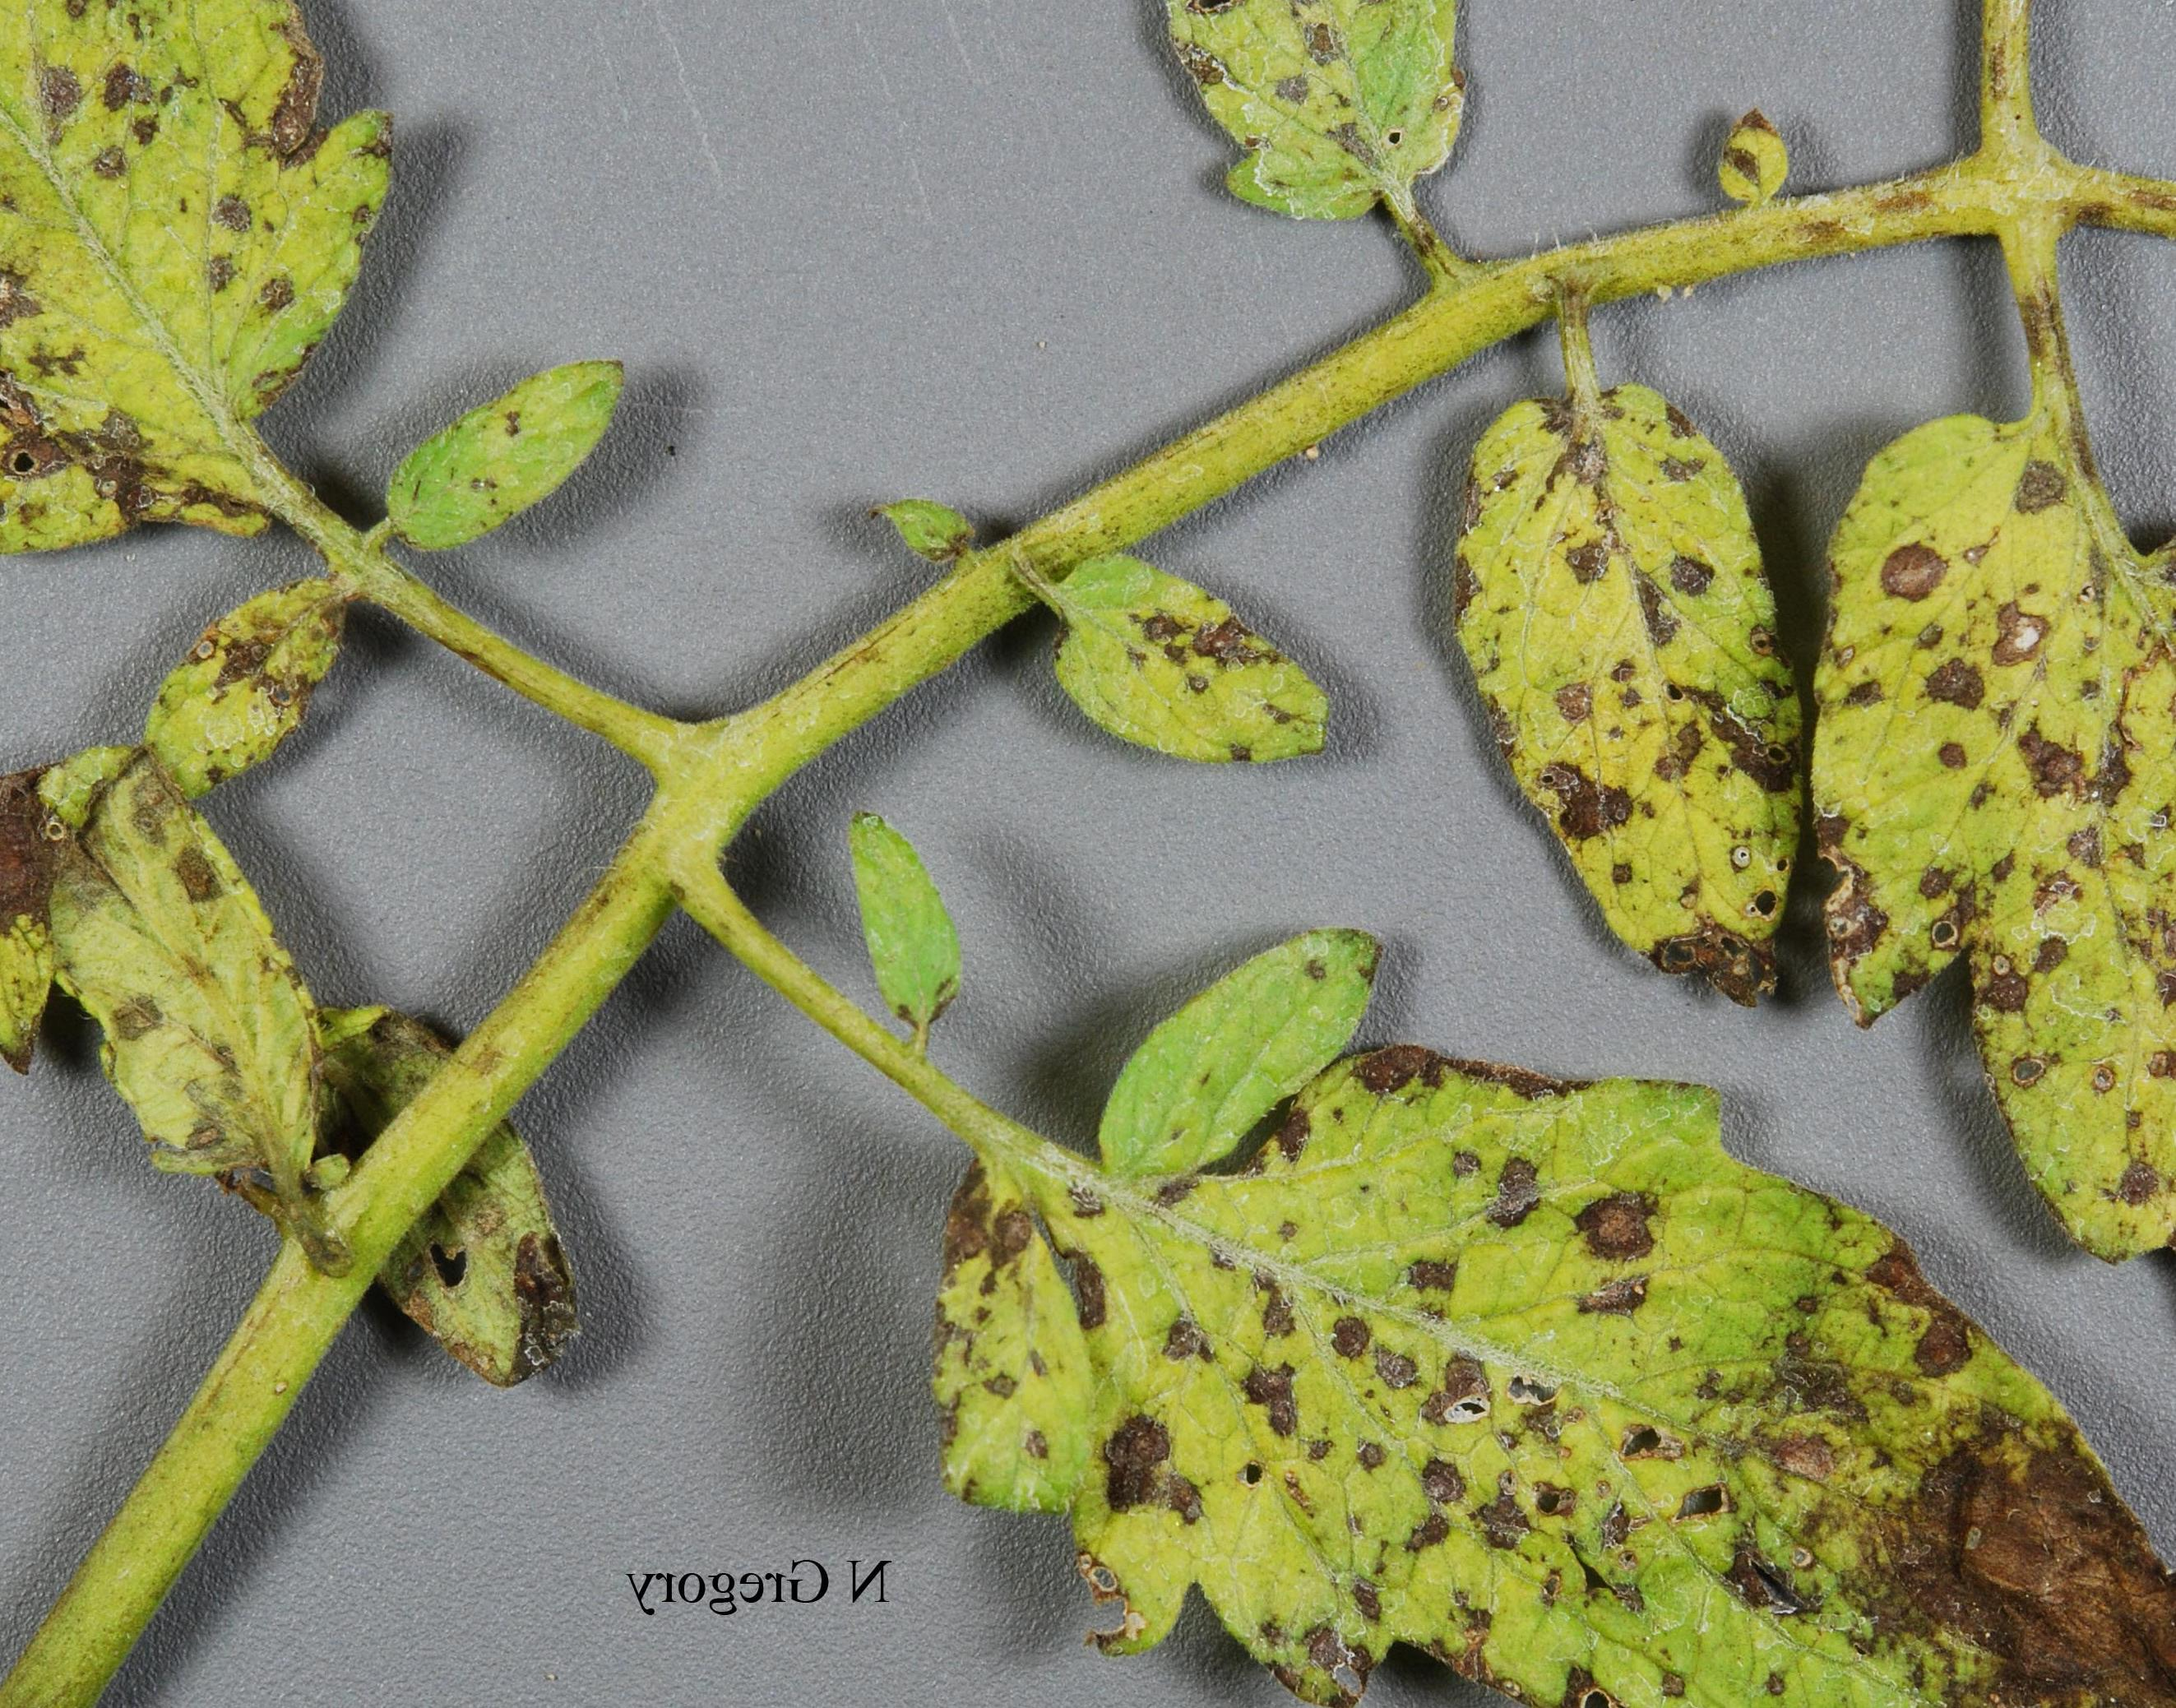Tomato Septoria leaf spot: (908, 994, 2176, 1708), (1805, 323, 2176, 1584), (0, 0, 493, 645), (1455, 385, 1856, 1051), (0, 698, 327, 1265), (1040, 0, 1549, 238), (1023, 540, 1376, 848)
